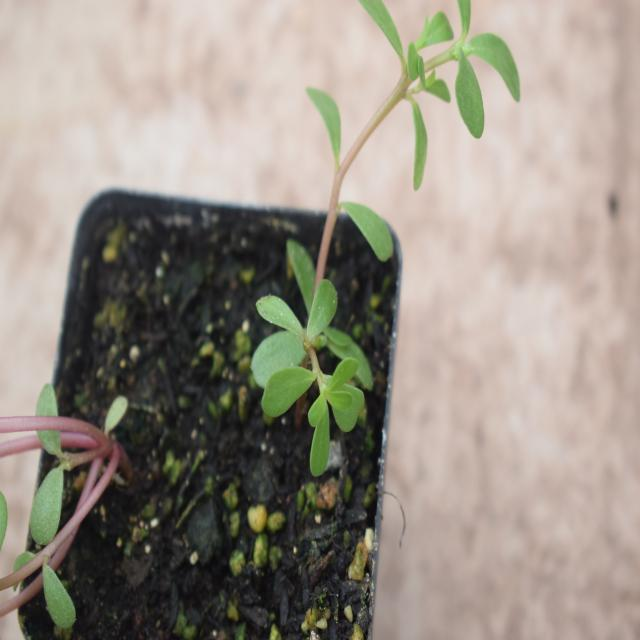purslane: (237, 0, 508, 456)
